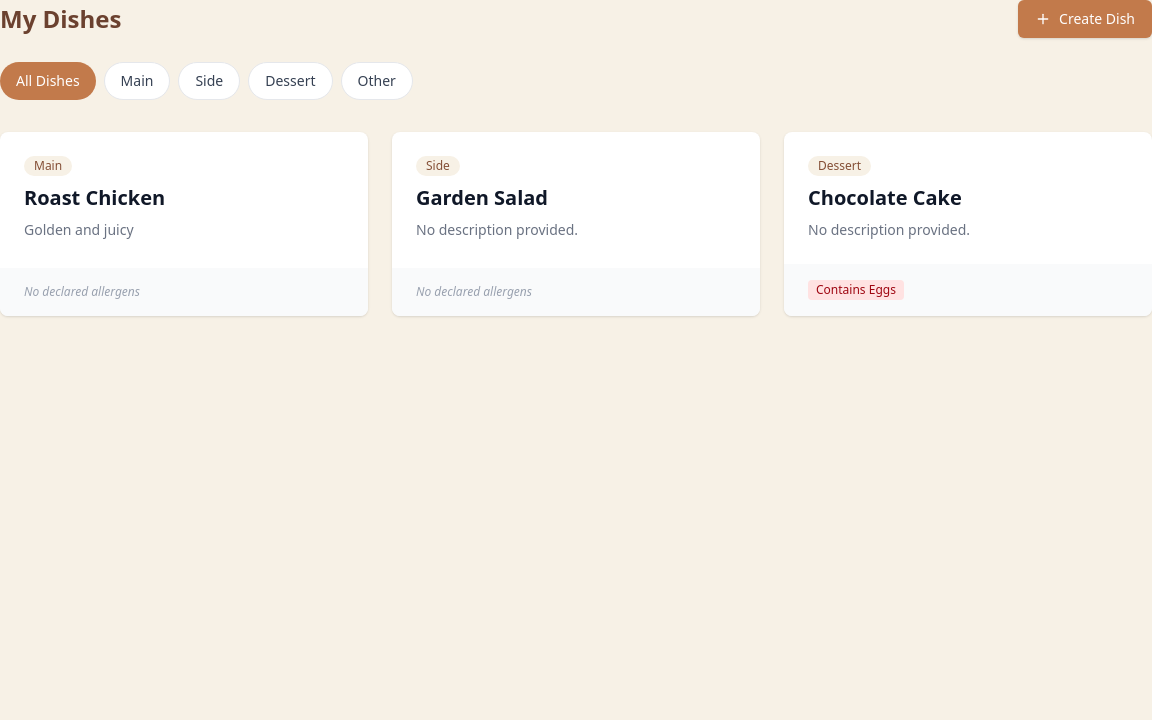
Test case: dishes page › creates a dish and shows it in the list
Expected: the heading "My Dishes" is shown, x1=0 y1=3 x2=121 y2=35
Click the button "Create Dish" at (1085, 19), box x1=1018 y1=0 x2=1151 y2=38
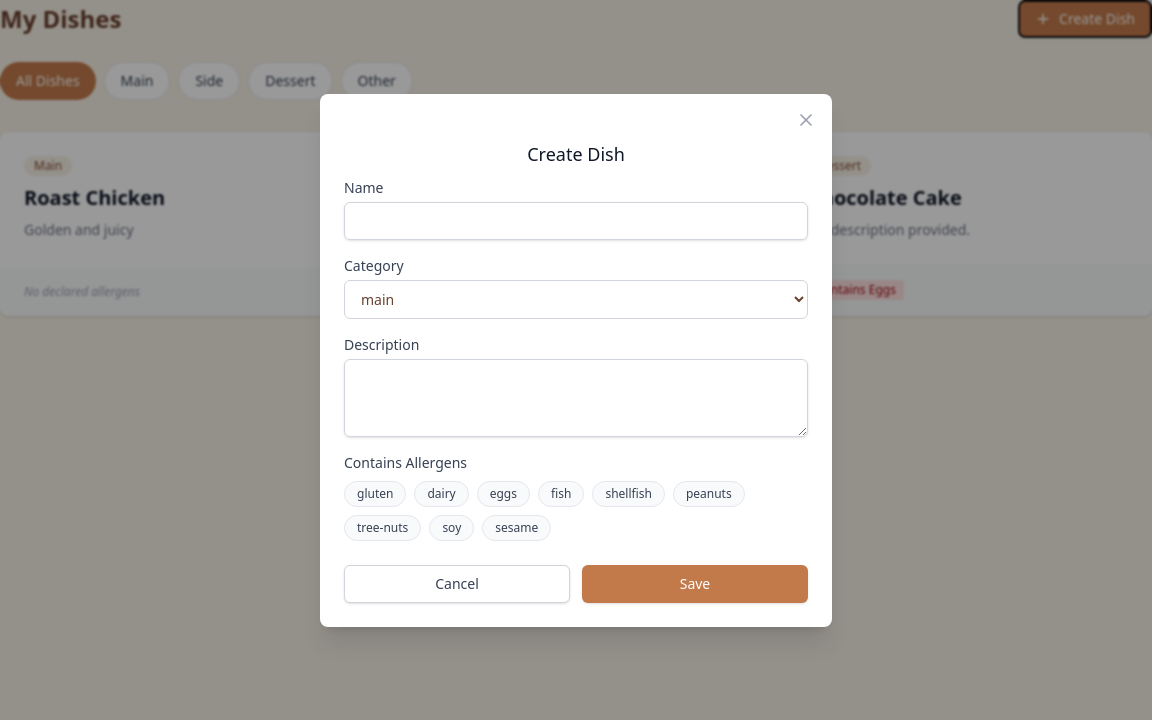
Type "Miso Soup" into the field labelled "Name" at (576, 220), box x1=344 y1=202 x2=808 y2=240
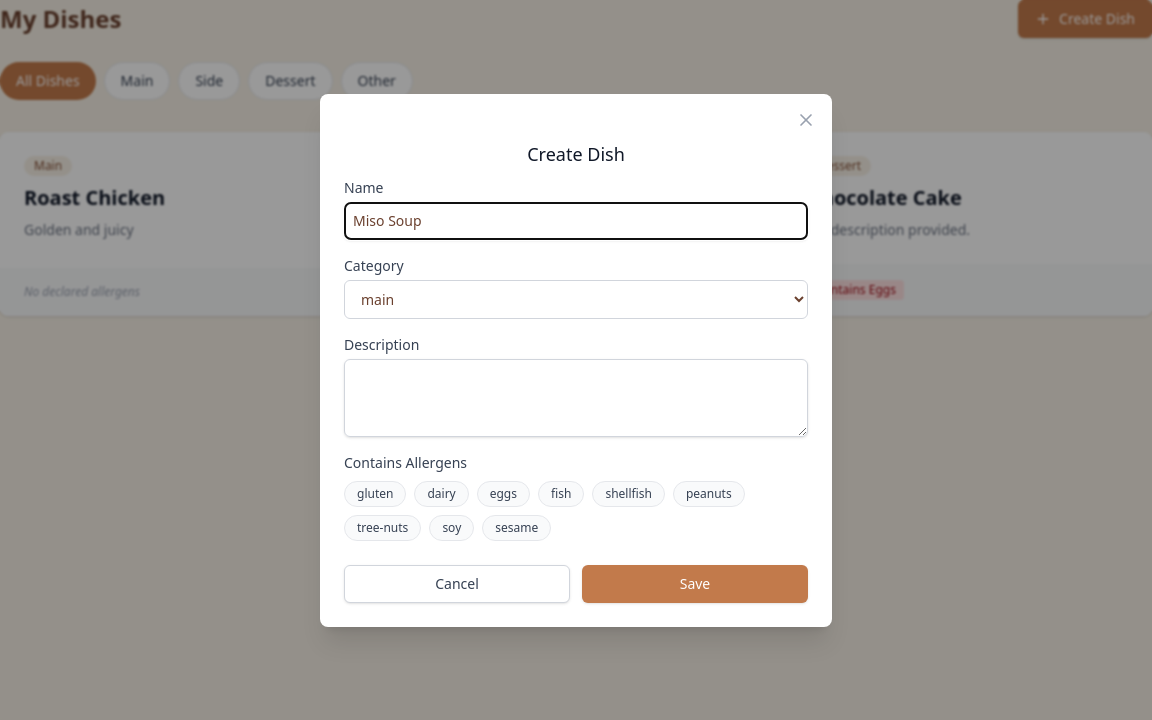
Type "Savory" into the text box labelled "Description" at (576, 398), box x1=344 y1=358 x2=808 y2=436
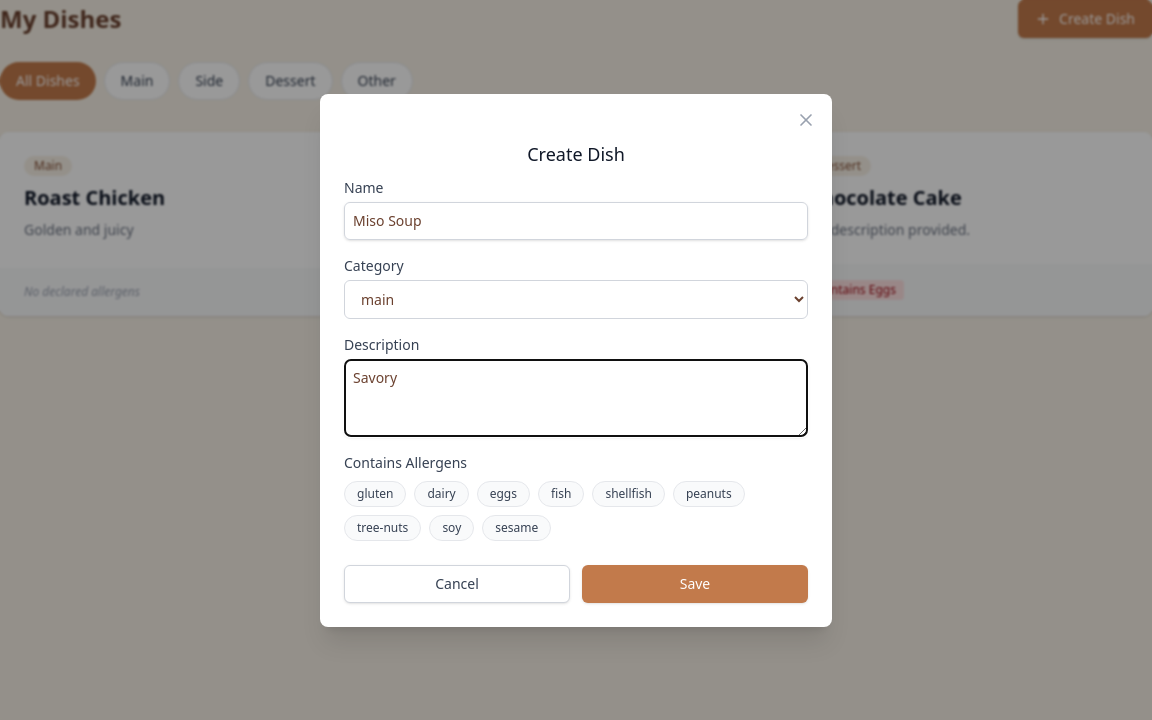
Select "other" in the dropdown labelled "Category" at (576, 299), box x1=344 y1=280 x2=808 y2=318
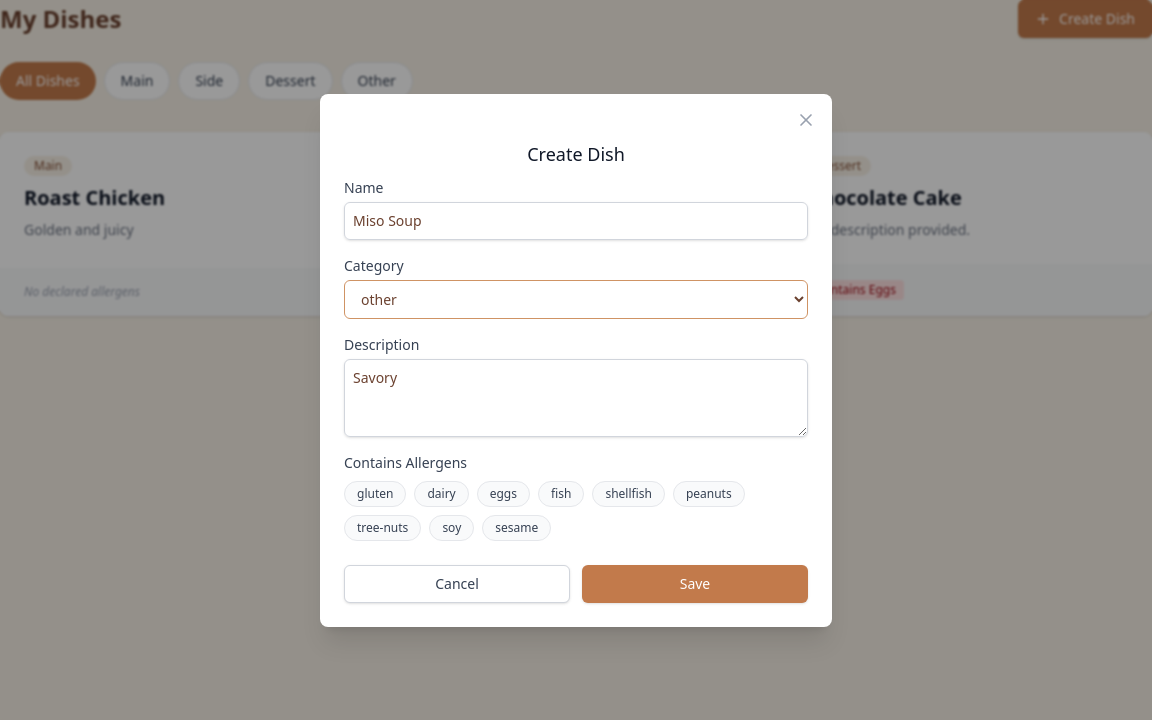
Click the button "Save" at (695, 584), box x1=582 y1=564 x2=808 y2=602
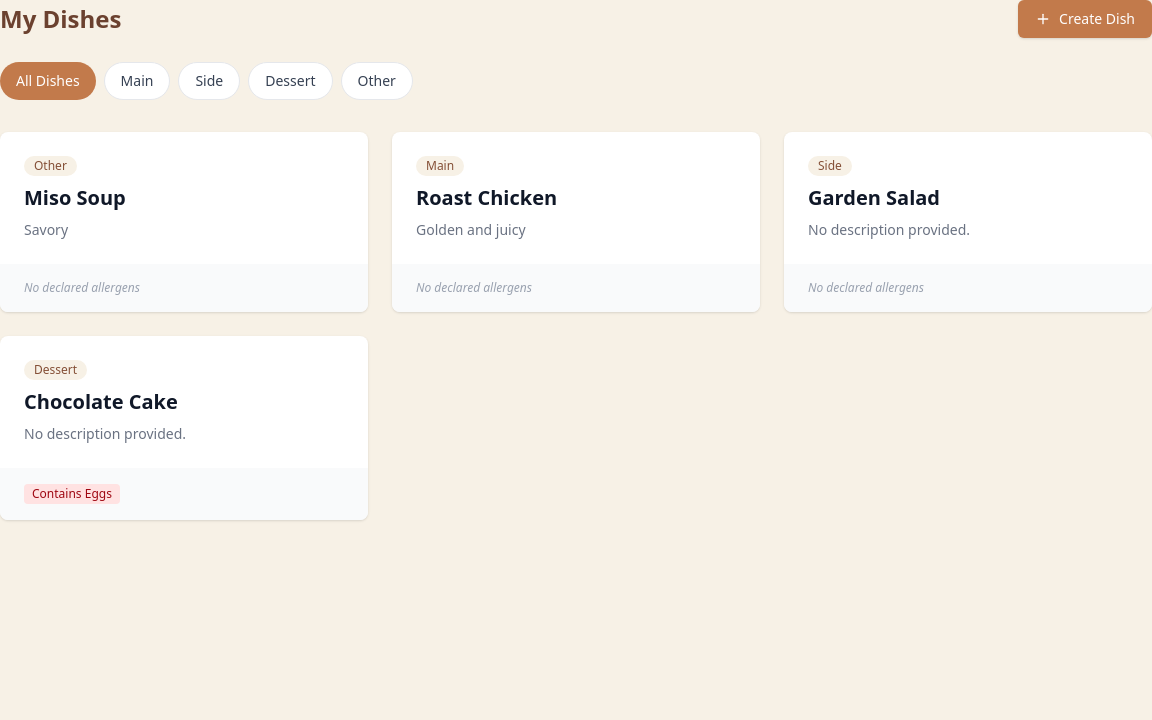
Expected: the heading "Miso Soup" is shown, x1=24 y1=184 x2=126 y2=211
